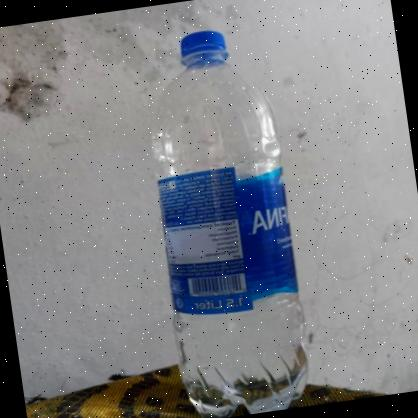bottle: (127, 11, 329, 418)
cap: (169, 23, 236, 70)
label: (147, 148, 318, 325)
